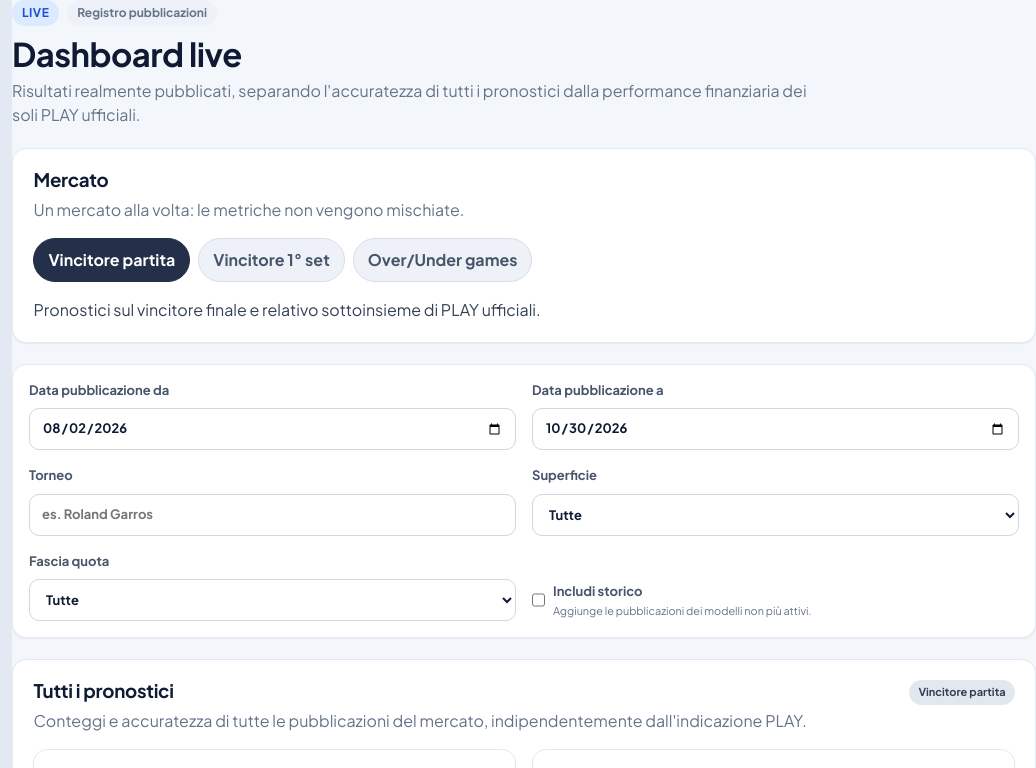
Scenario: LiveBetaDashboardPage › shows history only for match winner and resets it on another market
Expected: the heading "Dashboard live" is shown, [12,33,242,74]
Click the checkbox labelled "Includi storico".
click(538, 600)  # box [532,579,545,621]
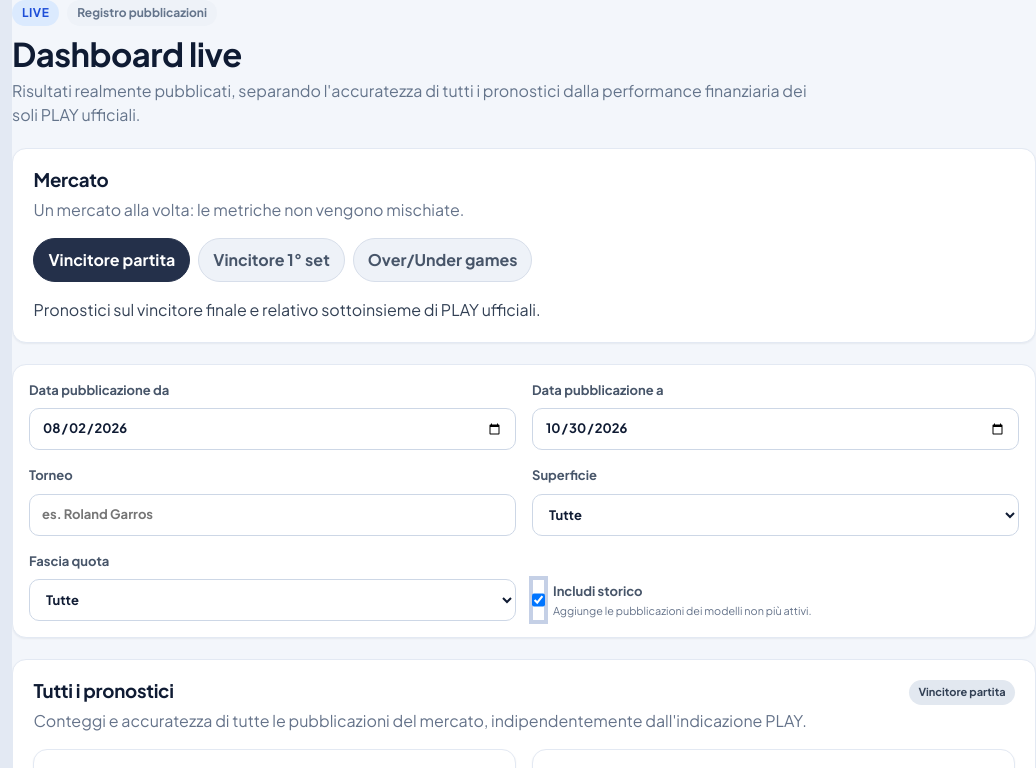
Click the tab "Over/Under games".
click(443, 260)  # box [353,238,532,282]
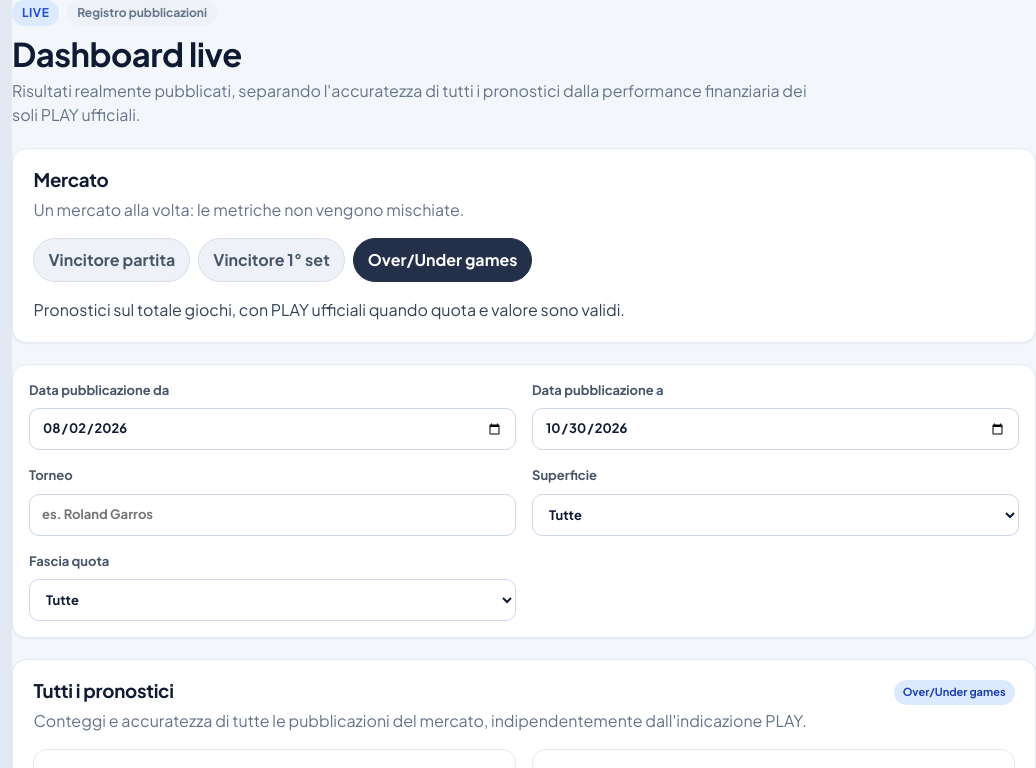
Expected: the heading "Dashboard live" is shown, [12,33,242,74]
Expected: the field labelled "Includi storico" is gone
